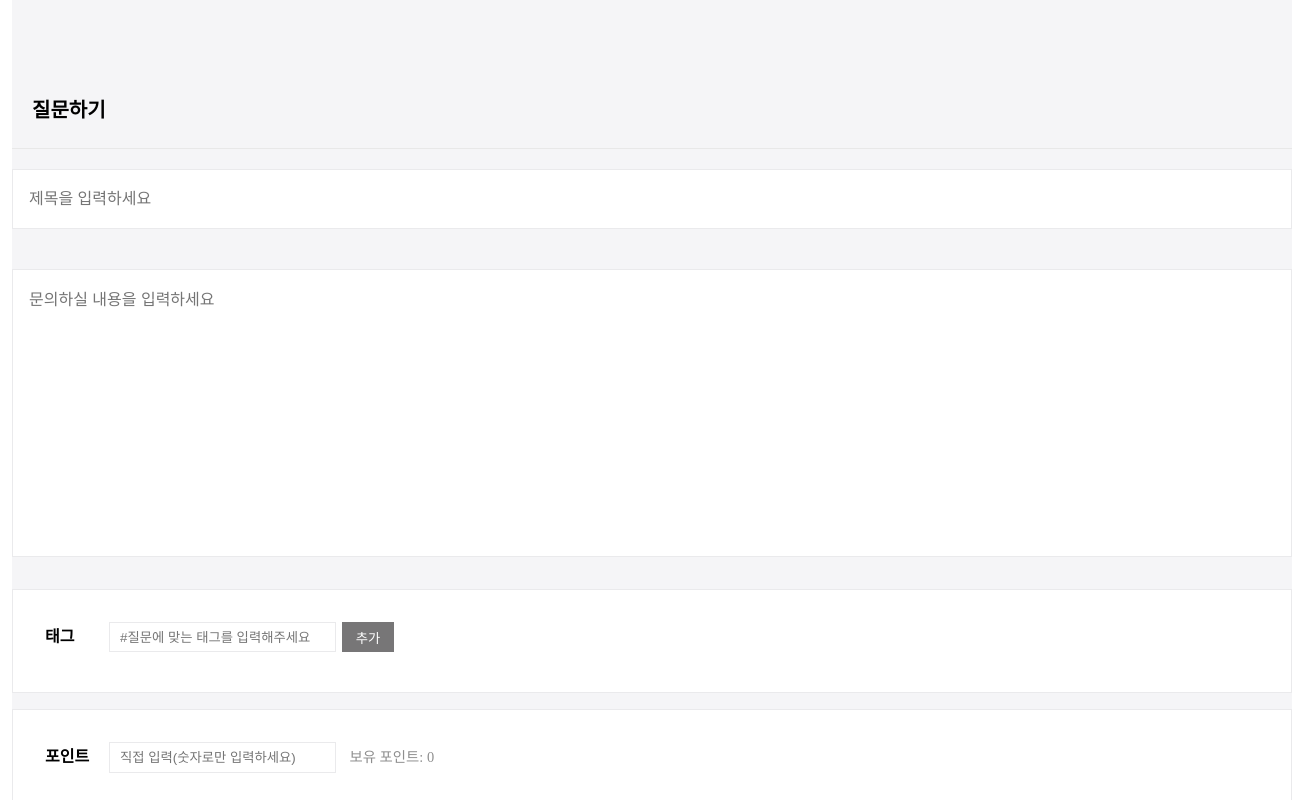
Test: QuestionForm › with empty title › renders error message
Type "서버를 배포 후 특정 요청에서 CORS에러가 발생합니다." into the text box with placeholder "문의하실 내용을 입력하세요" at (652, 413), box x1=12 y1=269 x2=1292 y2=557
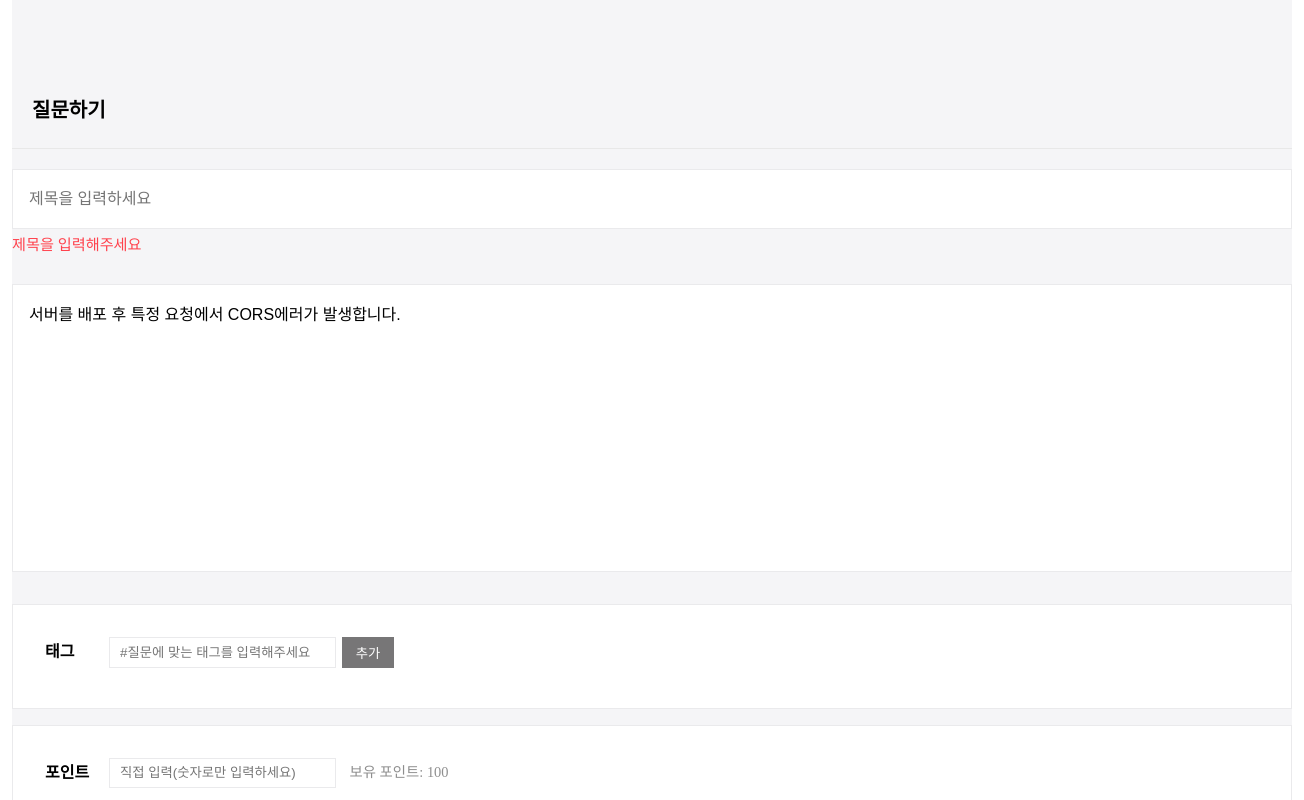
Expected: the text "제목을 입력해주세요" is shown, x1=12 y1=236 x2=142 y2=253
